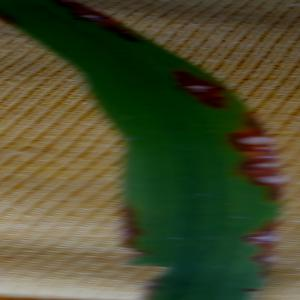1 RiceBlast: (58, 1, 145, 48), (176, 62, 239, 120), (217, 122, 282, 153), (236, 167, 291, 193), (228, 152, 288, 174), (240, 227, 281, 256), (245, 246, 291, 270)
